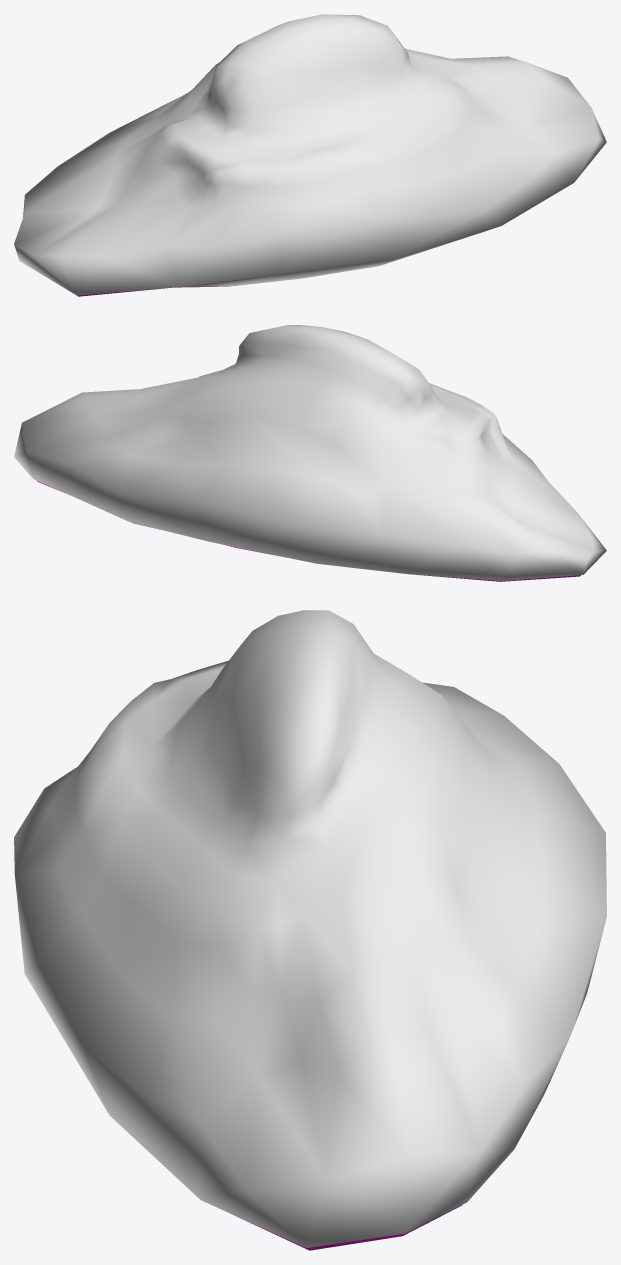
File: p_mesh_enviroment_lava_puddle03_pose0.fbx
3 renders of one model, top to bottom at view 1: azimuth 30°, elevation 25°; view 2: azimuth 150°, elevation 25°; view 3: azimuth 270°, elevation 25°, orthographic. The views are drawn at different scales.
Visible parts, largest first — view 1: env_bosstrain_lavapuddle03_pose0; view 2: env_bosstrain_lavapuddle03_pose0; view 3: env_bosstrain_lavapuddle03_pose0.
Part boxes in pixels (x1,y1,x2,y2): env_bosstrain_lavapuddle03_pose0: (14,14,606,296); env_bosstrain_lavapuddle03_pose0: (14,325,606,581); env_bosstrain_lavapuddle03_pose0: (14,610,606,1250).
Size of the model in its own units: 144 by 50.15 by 71.03.
Materials: 2 (1 with a texture image).
